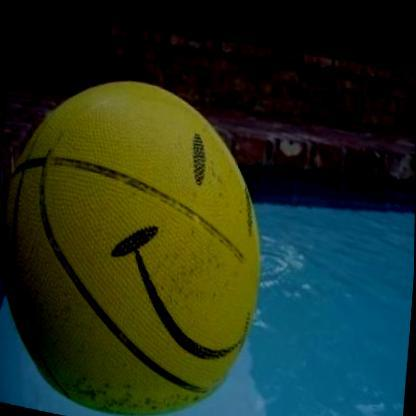basketball: (0, 47, 275, 416)
